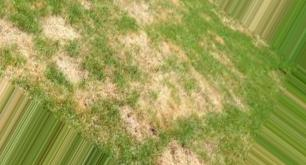patch: (71, 48, 218, 119), (152, 143, 202, 164), (40, 18, 81, 43)
